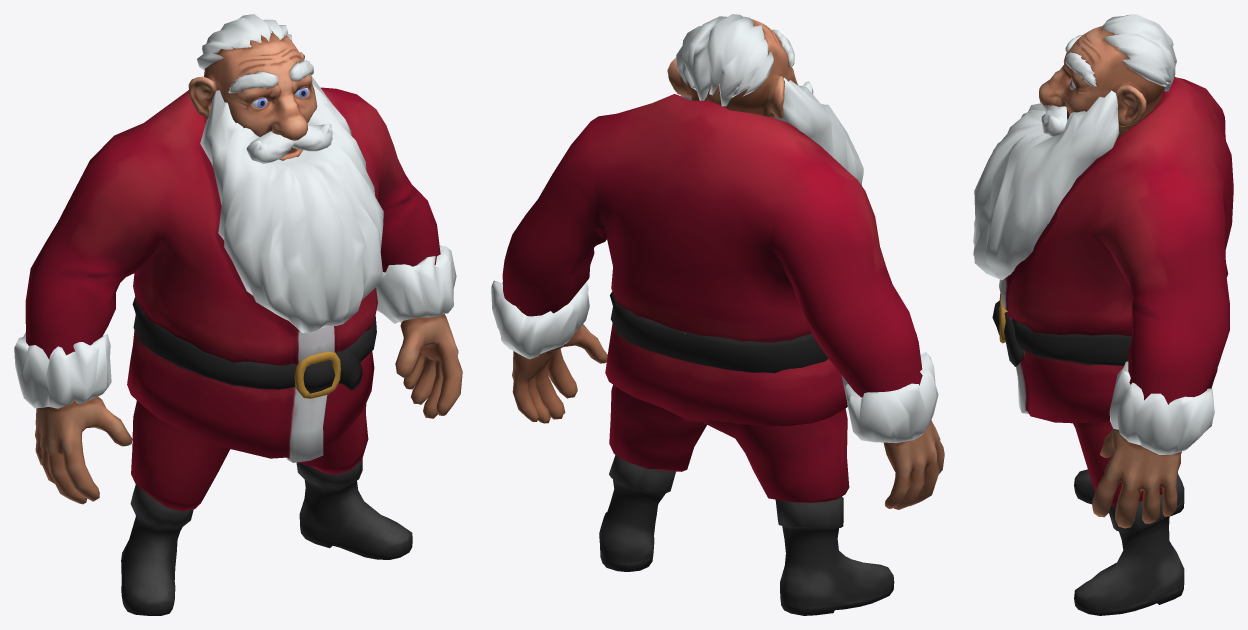
Rendered from santa.fbx.
The picture shows the model from 3 angles, left to right: view 1: azimuth 30°, elevation 25°; view 2: azimuth 150°, elevation 25°; view 3: azimuth 270°, elevation 25°; orthographic projection. The views are drawn at different scales.
Parts seen in each view (by area): view 1: Plane.018, Icosphere.016, Plane.016, Plane.021, Cylinder.002, Plane.019, Plane.022, Plane.012, Icosphere.019, Plane.026, Plane.020; view 2: Plane.018, Plane.016, Plane.019, Cylinder.002, Plane.021, Plane.012, Plane.026, Icosphere.016, Plane.022; view 3: Plane.018, Icosphere.016, Plane.016, Plane.022, Plane.021, Cylinder.002, Plane.012, Plane.026, Plane.019, Icosphere.019.
Boxes of the visible parts, x1,y1,x2,y2 form: Plane.018: [25, 87, 440, 462]; Icosphere.016: [200, 75, 383, 332]; Plane.016: [121, 458, 412, 615]; Plane.021: [35, 313, 462, 504]; Cylinder.002: [14, 245, 456, 408]; Plane.019: [131, 400, 368, 511]; Plane.022: [188, 31, 317, 160]; Plane.012: [132, 297, 376, 393]; Icosphere.019: [228, 60, 332, 163]; Plane.026: [197, 14, 291, 70]; Plane.020: [294, 351, 340, 398]; Plane.018: [502, 94, 922, 426]; Plane.016: [599, 455, 894, 615]; Plane.019: [609, 385, 849, 502]; Cylinder.002: [491, 280, 938, 443]; Plane.021: [512, 324, 944, 509]; Plane.012: [610, 291, 828, 373]; Plane.026: [676, 14, 773, 106]; Icosphere.016: [680, 77, 863, 185]; Plane.022: [667, 19, 797, 119]; Plane.018: [999, 77, 1233, 423]; Icosphere.016: [973, 90, 1119, 280]; Plane.016: [1074, 469, 1184, 615]; Plane.022: [1039, 26, 1164, 139]; Plane.021: [1092, 428, 1180, 528]; Cylinder.002: [1109, 361, 1214, 454]; Plane.012: [992, 300, 1131, 366]; Plane.026: [1100, 14, 1176, 91]; Plane.019: [1073, 421, 1181, 505]; Icosphere.019: [1041, 35, 1096, 136].
Size of the model in its own units: 51.63 by 63.17 by 27.83.
11 materials, 11 textured.
